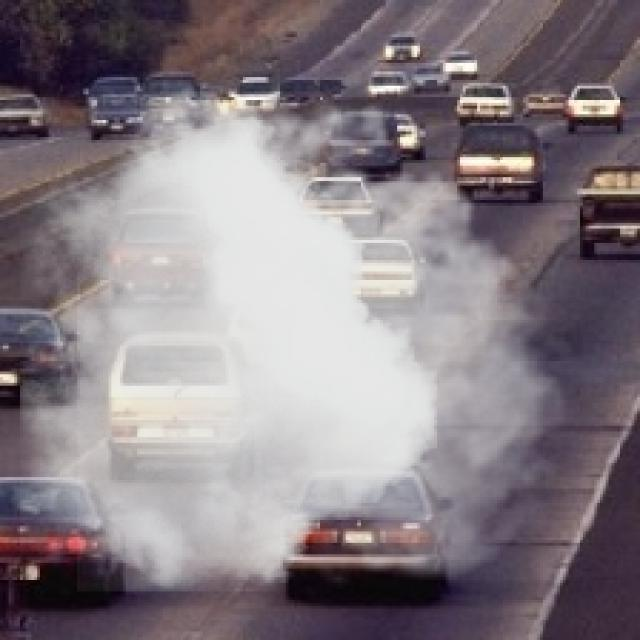Smoke: (20, 69, 586, 592)
